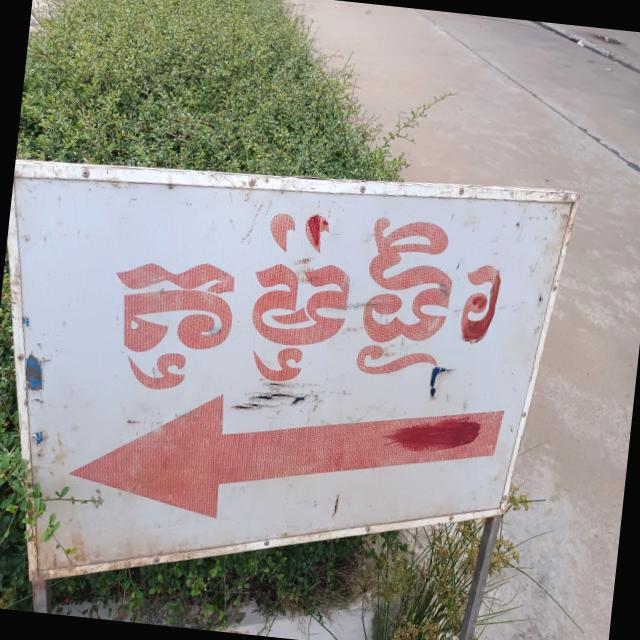Yolov11kh: (94, 203, 530, 399)
